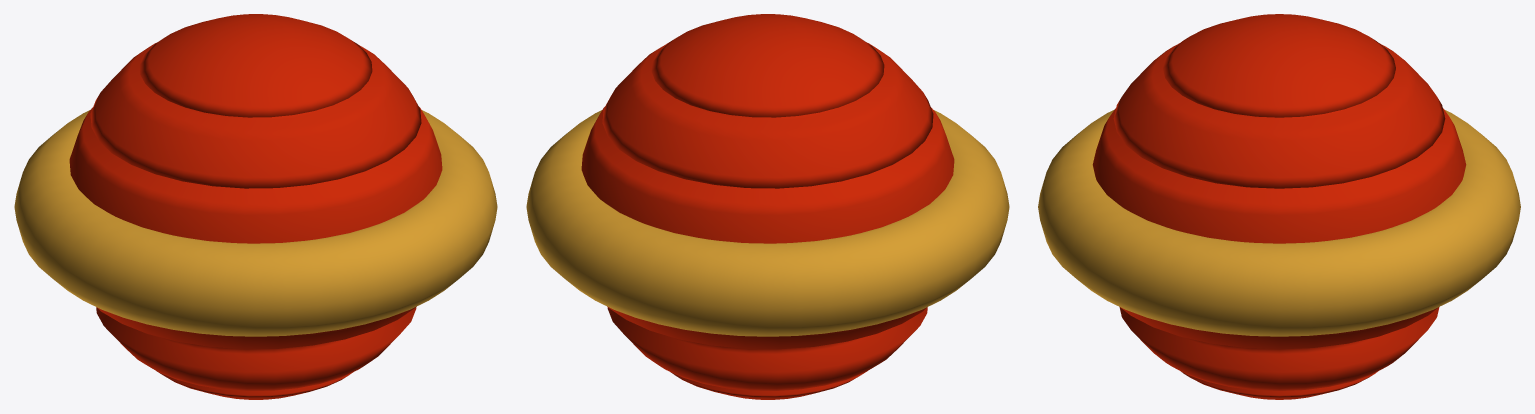
File: Player.fbx
3 renders of one model, left to right at view 1: azimuth 30°, elevation 25°; view 2: azimuth 150°, elevation 25°; view 3: azimuth 270°, elevation 25°, orthographic.
Parts seen in each view (by area): view 1: Sphere, Torus; view 2: Sphere, Torus; view 3: Sphere, Torus.
Boxes of the visible parts, x1,y1,x2,y2 form: Sphere: (69,14,442,399); Torus: (14,110,497,336); Sphere: (581,14,954,399); Torus: (526,110,1009,336); Sphere: (1092,14,1466,399); Torus: (1038,109,1520,336).
Bounding box in the file's own units: 250 × 200 × 250.
